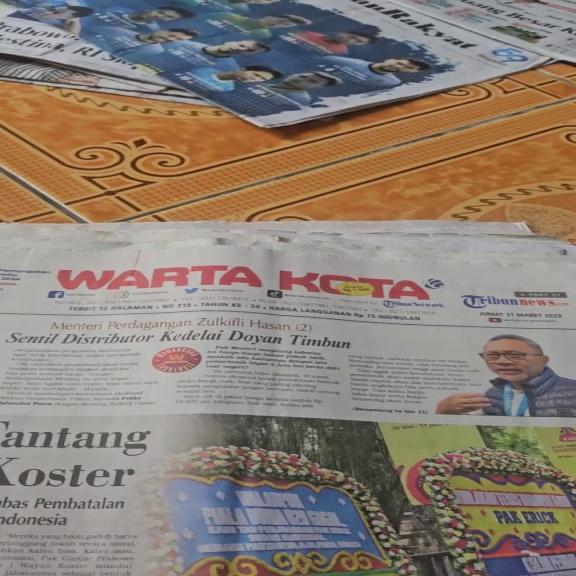Kertas: (3, 235, 567, 571), (144, 1, 546, 129)
